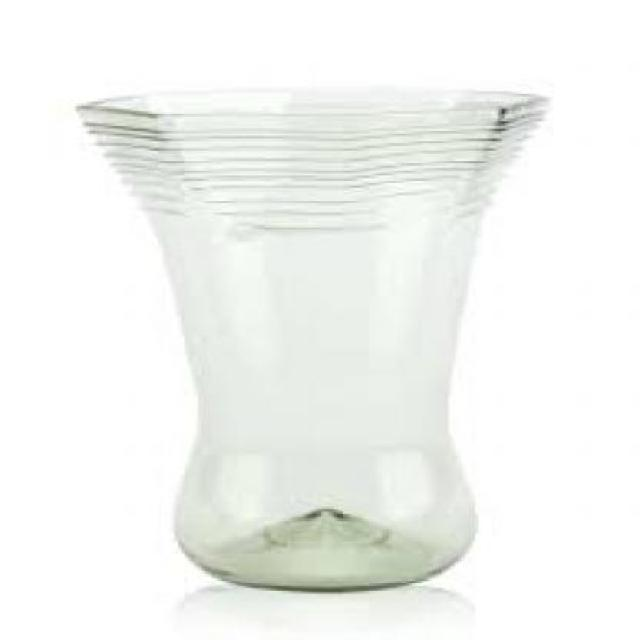kaca: (75, 92, 551, 590)
